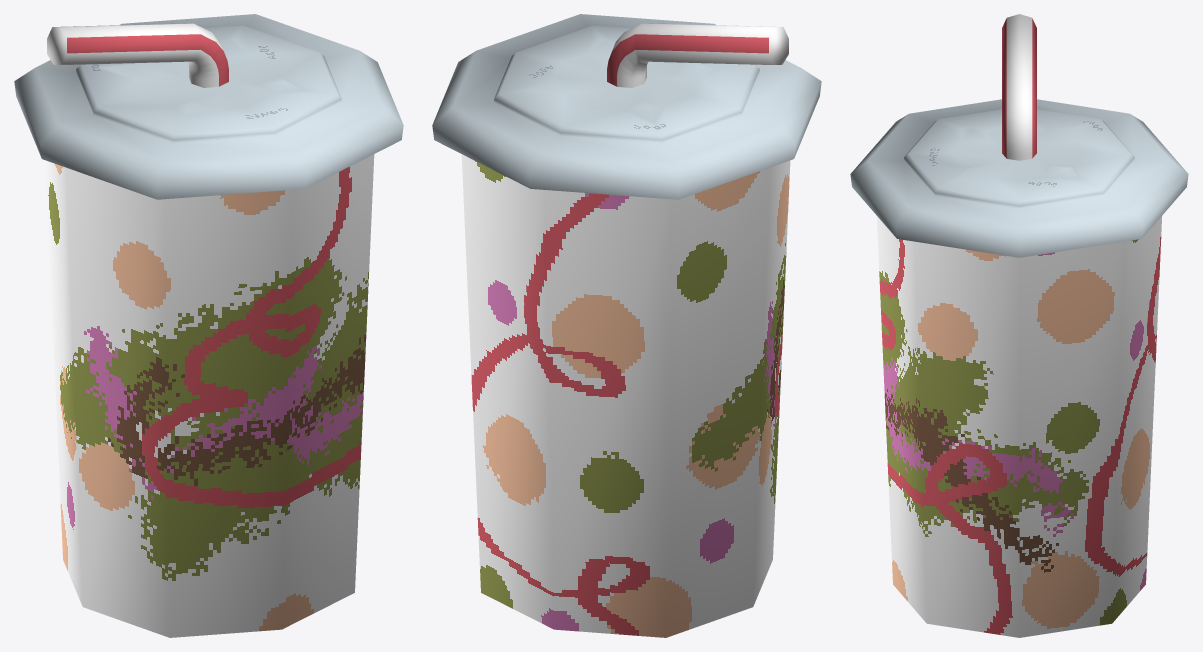
Rendered from mall-soda.glb.
3 views of the same model, side by side, from view 1: azimuth 30°, elevation 25°; view 2: azimuth 150°, elevation 25°; view 3: azimuth 270°, elevation 25° (orthographic). The views are drawn at different scales.
Visible parts, largest first — view 1: base; view 2: base; view 3: base.
Part boxes in pixels (bbox=[...]): base: bbox=[14, 14, 403, 637]; base: bbox=[432, 14, 821, 637]; base: bbox=[850, 14, 1188, 637].
Bounding box in the file's own units: 4.38 × 7.25 × 4.38.
Materials: 6 (3 with a texture image).
